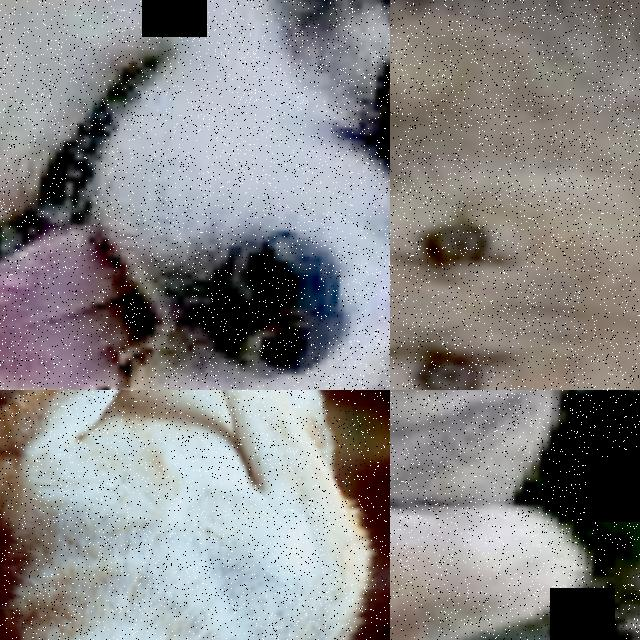dog: (0, 0, 390, 390)
wolf: (390, 0, 640, 390), (0, 390, 390, 640), (390, 390, 640, 640)
